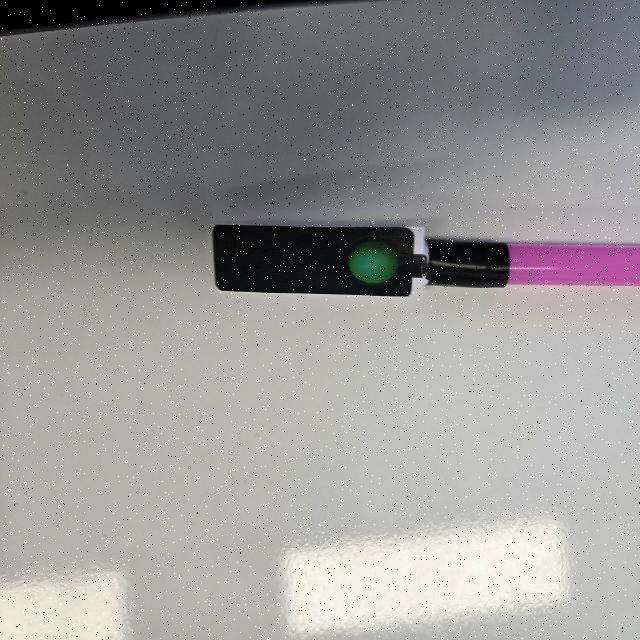traffic light: (212, 225, 429, 300)
